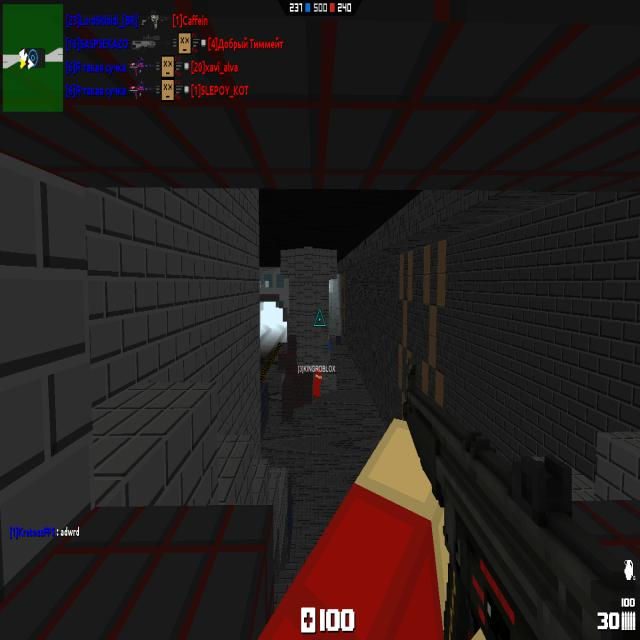enemy: (328, 334, 331, 351)
